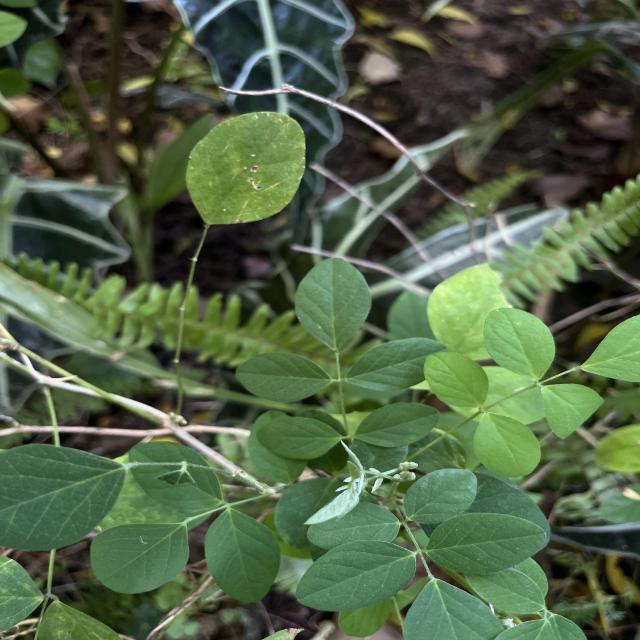Clitoria ternatea: (184, 111, 308, 226), (294, 538, 418, 612), (88, 522, 192, 596), (424, 512, 547, 574), (483, 306, 556, 381), (235, 352, 333, 404), (403, 468, 478, 524), (354, 401, 441, 448), (422, 351, 490, 409), (255, 416, 342, 461), (344, 447, 356, 448)
